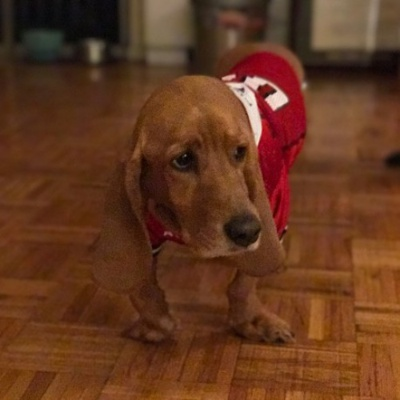daisy: (91, 77, 284, 287)
